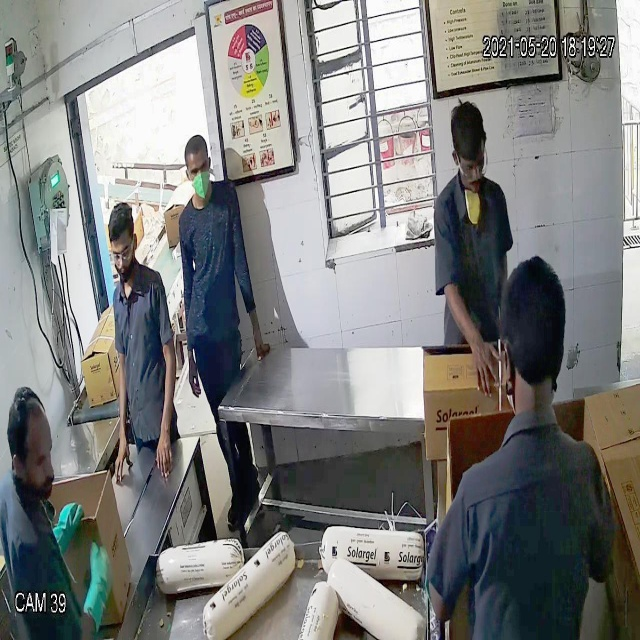Gafas: (452, 148, 491, 181), (110, 241, 137, 268)
Sin_gafas: (184, 156, 213, 181)
